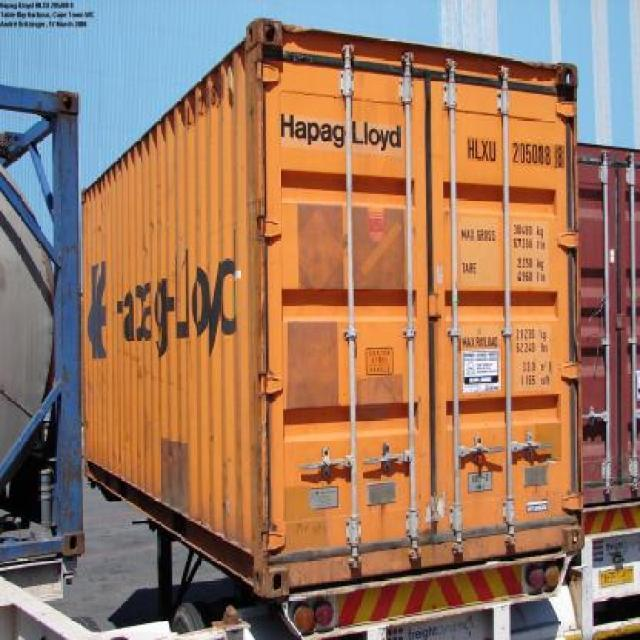container_number: (460, 134, 566, 170)
